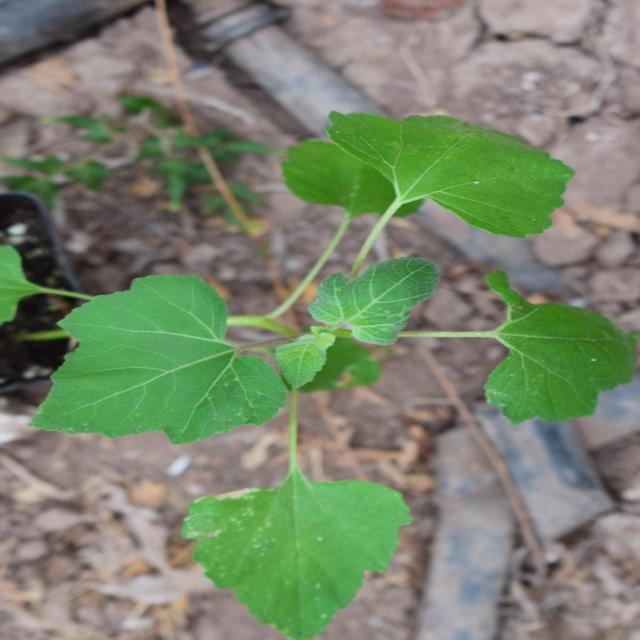cocklebur: (42, 49, 524, 606)
